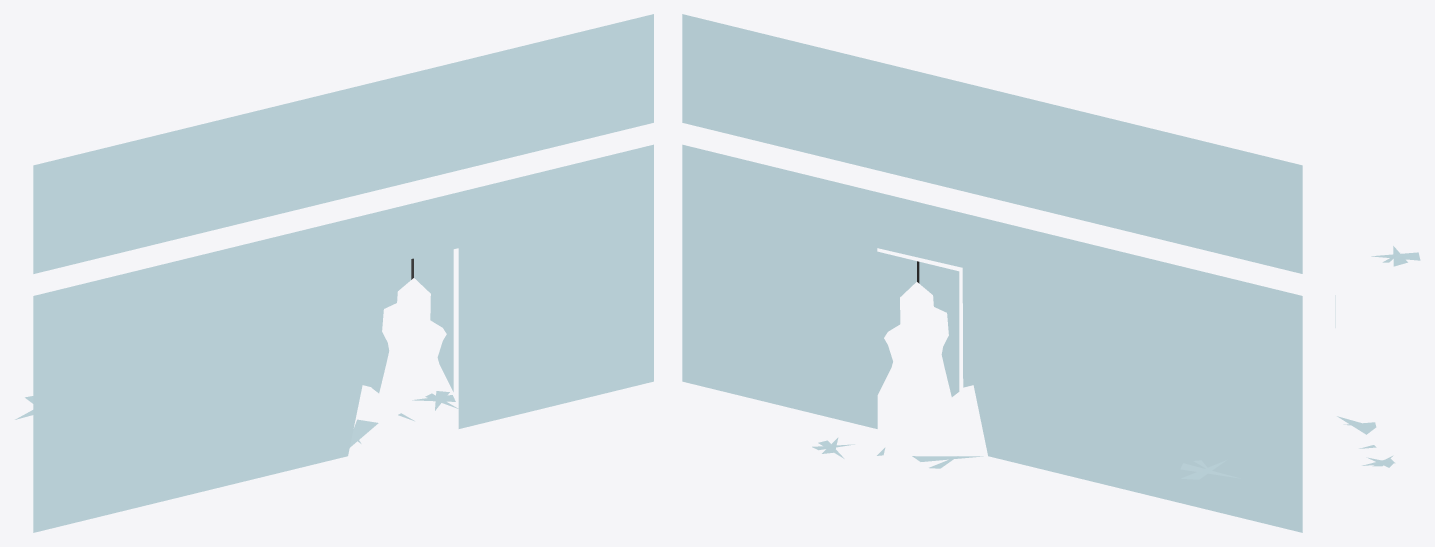
The model's file is windowupdate.glb.
3 views of the same model, side by side, from view 1: azimuth 30°, elevation 25°; view 2: azimuth 150°, elevation 25°; view 3: azimuth 270°, elevation 25° (orthographic). The views are drawn at different scales.
Visible parts, largest first — view 1: BrokenWindow, DoorOutside; view 2: BrokenWindow, DoorOutside; view 3: BrokenWindow.
Boxes of the visible parts, <box> form: BrokenWindow: <box>15,14,653,532</box>; DoorOutside: <box>371,249,453,393</box>; BrokenWindow: <box>682,14,1302,532</box>; DoorOutside: <box>877,251,959,396</box>; BrokenWindow: <box>1337,246,1420,467</box>.
Bounding box in the file's own units: 10.97 × 6.21 × 1.76.
2 materials, 1 textured.
